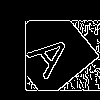A: (25, 25, 83, 81)
